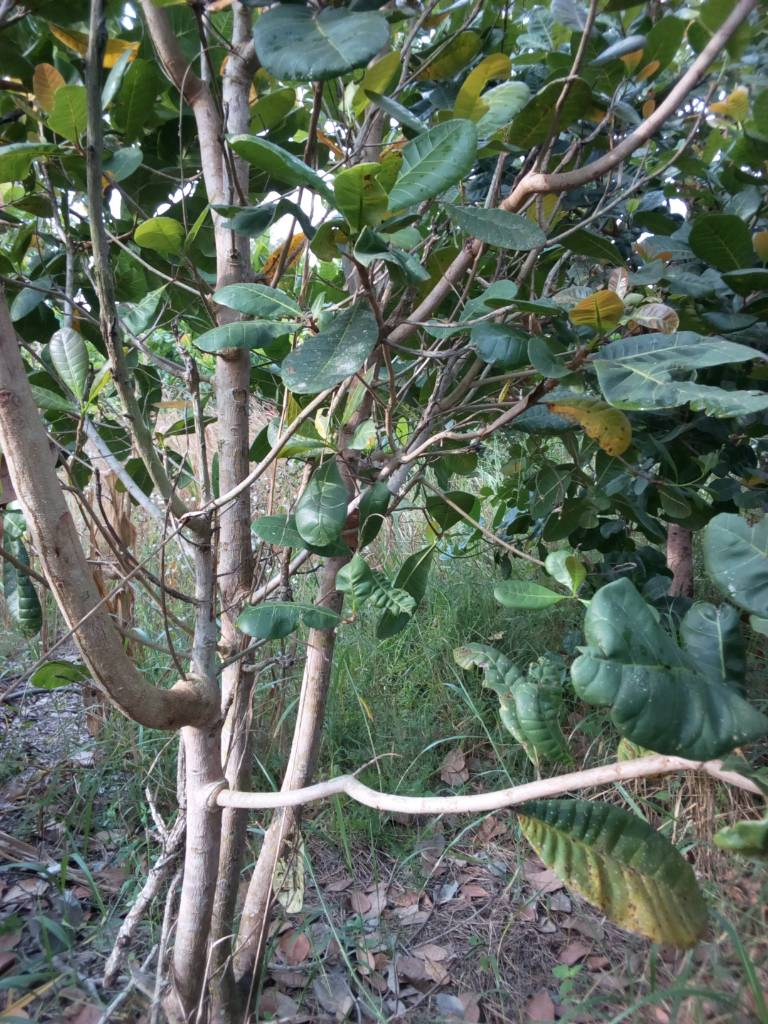Helopeltis anacardii: (575, 572, 757, 742), (597, 338, 768, 417), (340, 549, 415, 611), (236, 597, 341, 641), (329, 160, 390, 232)
